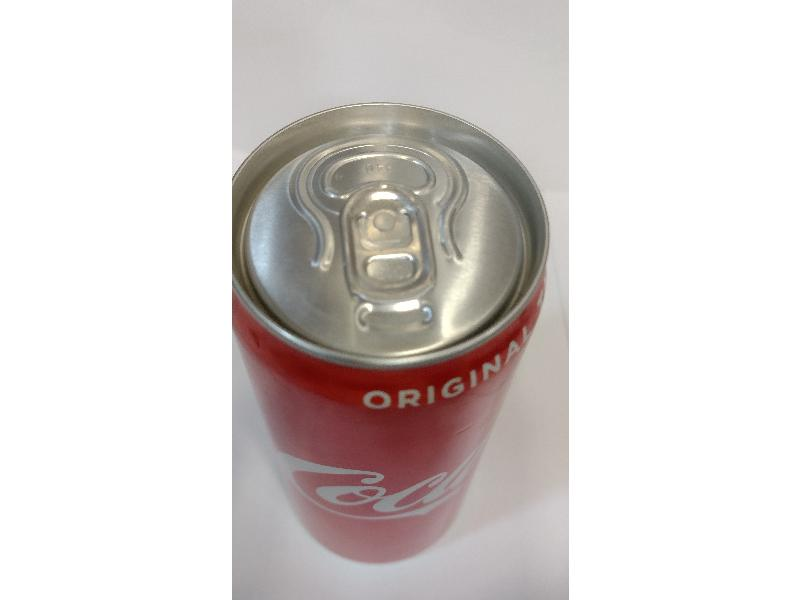can: (232, 95, 552, 562)
